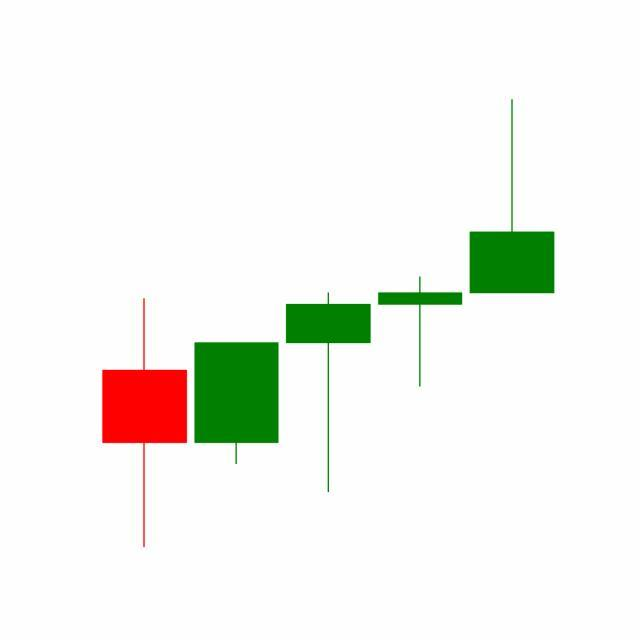Dragonfly Doji: (374, 276, 468, 390)
